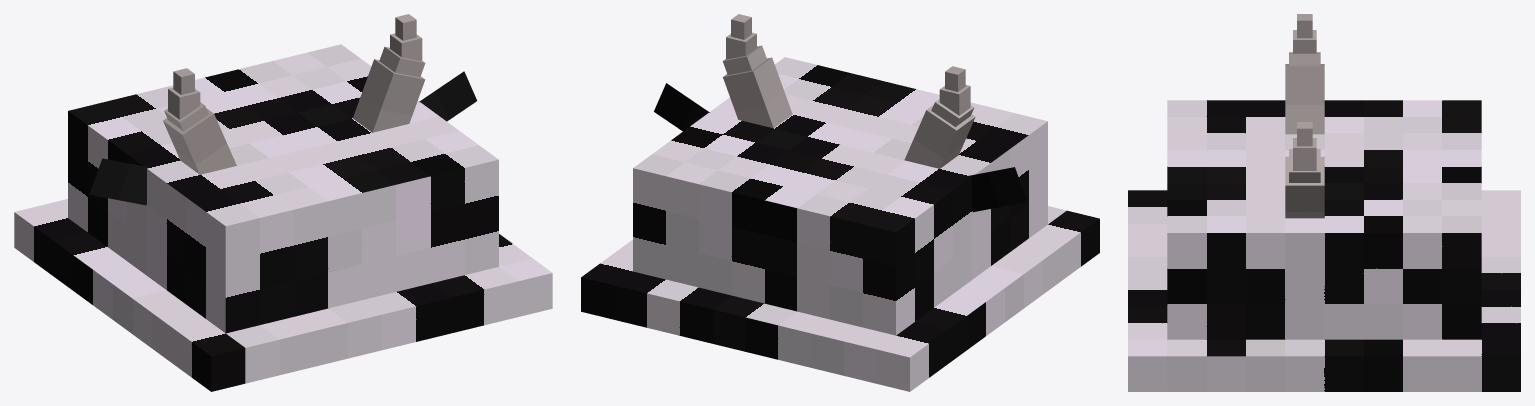
File: accessory_cow_hat.glb
The picture shows the model from 3 angles, left to right: view 1: azimuth 30°, elevation 25°; view 2: azimuth 150°, elevation 25°; view 3: azimuth 270°, elevation 25°; orthographic projection. The views are drawn at different scales.
Visible parts, largest first — view 1: cube_4, cube_2, cube_1, cube_5, cube_6, cube_0, cube_14, cube_13, cube_8, cube_11, cube_9, cube_7 (+2 smaller); view 2: cube_4, cube_3, cube_1, cube_5, cube_6, cube_0, cube_14, cube_13, cube_8, cube_11, cube_9, cube_7 (+2 smaller); view 3: cube_4, cube_0, cube_2, cube_3, cube_6, cube_5, cube_1, cube_9, cube_8, cube_11, cube_7, cube_10 (+1 smaller).
Boxes of the visible parts, x1,y1,x2,y2 form: cube_4: [68, 44, 498, 333]; cube_2: [226, 267, 518, 383]; cube_1: [14, 203, 245, 391]; cube_5: [353, 59, 425, 132]; cube_6: [163, 108, 236, 174]; cube_0: [499, 234, 552, 316]; cube_14: [89, 158, 149, 205]; cube_13: [419, 71, 477, 121]; cube_8: [379, 46, 425, 77]; cube_11: [168, 87, 200, 119]; cube_9: [390, 33, 422, 61]; cube_7: [164, 102, 208, 131]; cube_4: [633, 57, 1047, 335]; cube_3: [614, 271, 895, 383]; cube_1: [877, 210, 1099, 391]; cube_5: [723, 57, 792, 128]; cube_6: [904, 104, 975, 168]; cube_0: [581, 239, 632, 319]; cube_14: [969, 167, 1027, 212]; cube_13: [654, 83, 709, 131]; cube_8: [722, 45, 766, 74]; cube_11: [939, 85, 970, 115]; cube_9: [726, 32, 756, 59]; cube_7: [931, 99, 974, 126]; cube_4: [1167, 100, 1481, 339]; cube_0: [1128, 339, 1520, 391]; cube_2: [1128, 207, 1167, 339]; cube_3: [1481, 207, 1520, 339]; cube_6: [1285, 64, 1324, 134]; cube_5: [1285, 156, 1324, 218]; cube_1: [1128, 190, 1520, 206]; cube_9: [1293, 138, 1316, 170]; cube_8: [1289, 149, 1320, 182]; cube_11: [1293, 30, 1316, 53]; cube_7: [1289, 52, 1320, 65]; cube_10: [1297, 122, 1312, 146].
Size of the model in its own units: 1.78 by 1.05 by 1.57.
Materials: 1 (1 with a texture image).
